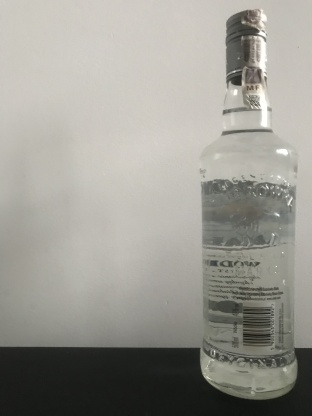nakretka: (223, 6, 269, 83)
